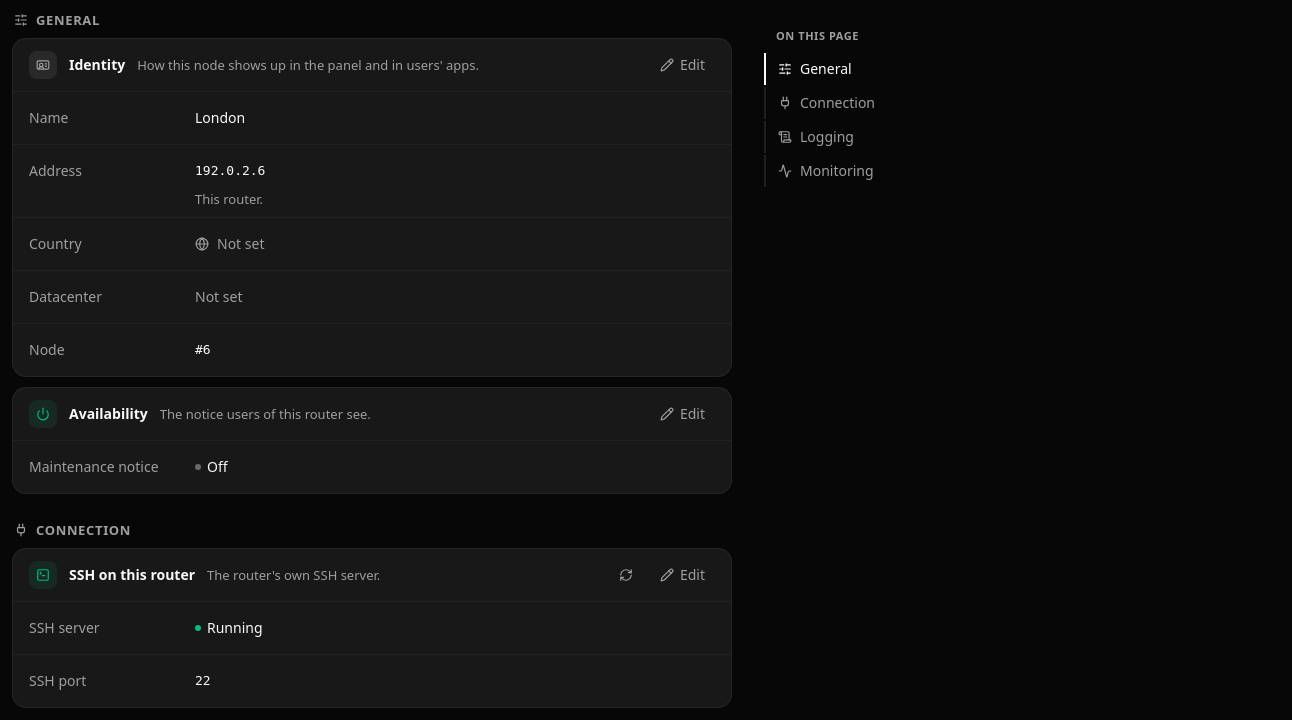
node settings page › saves only the group that changed
This screenshot has width=1292, height=720.
Click the button with aria-label "Edit Identity".
click(682, 65)  # box left=650, top=49, right=715, bottom=81
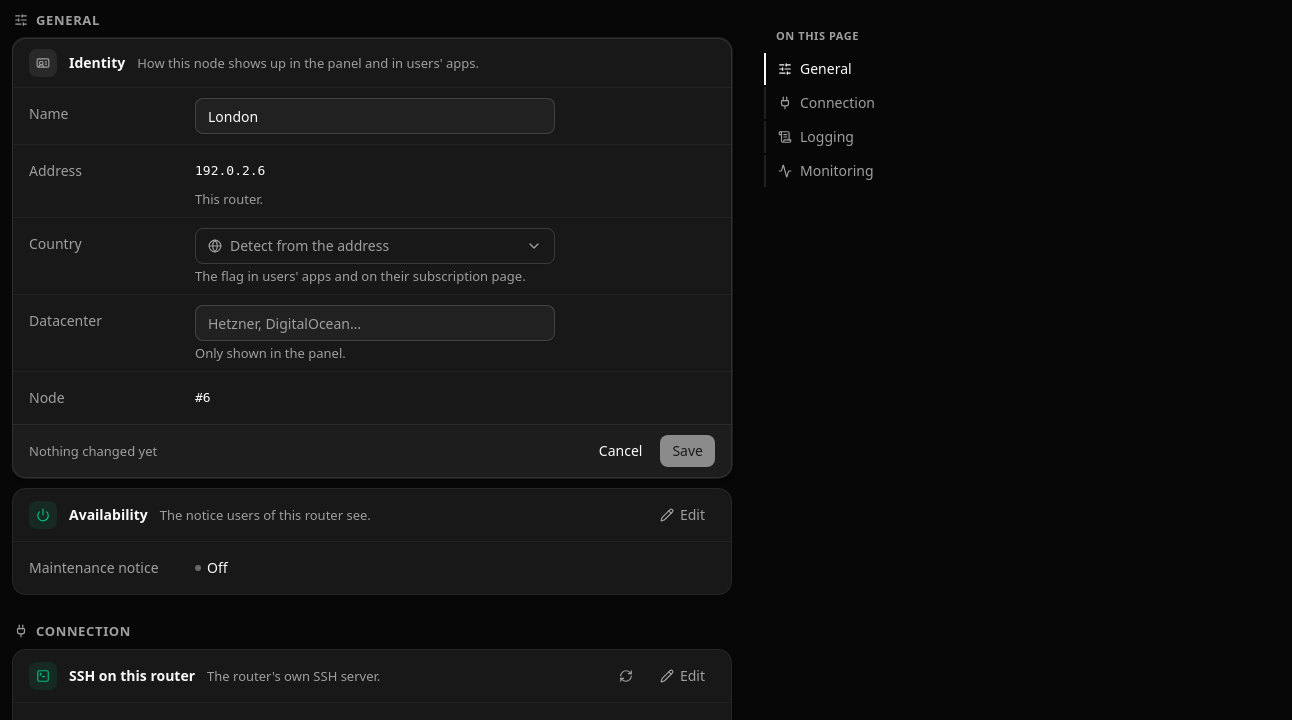
Replace the text in the field labelled "Name" with "New name" at (375, 116), box left=195, top=98, right=555, bottom=134
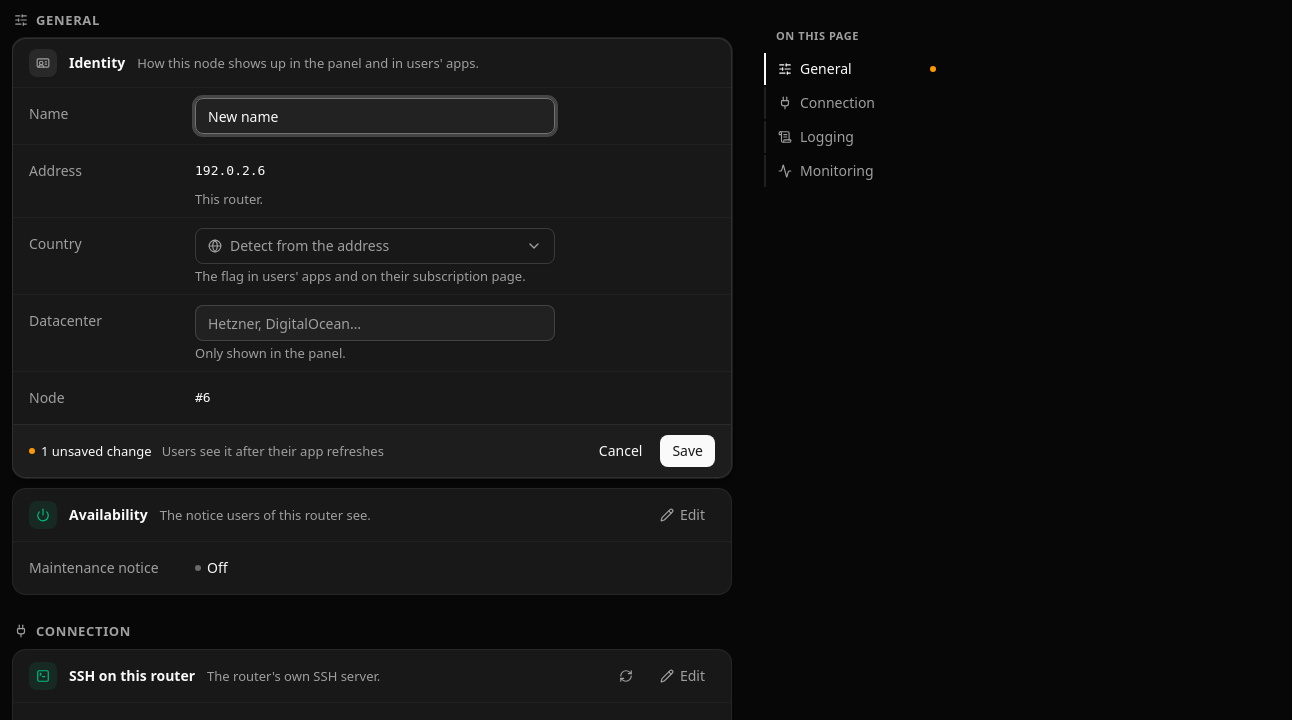
Check: the footer named "Unsaved changes" shows "1 unsaved change", box left=13, top=424, right=731, bottom=477
Check: the footer named "Unsaved changes" shows "Users see it after their app refreshes", box left=162, top=442, right=384, bottom=460
Click the button "Save".
click(688, 451)  # box left=660, top=435, right=715, bottom=467
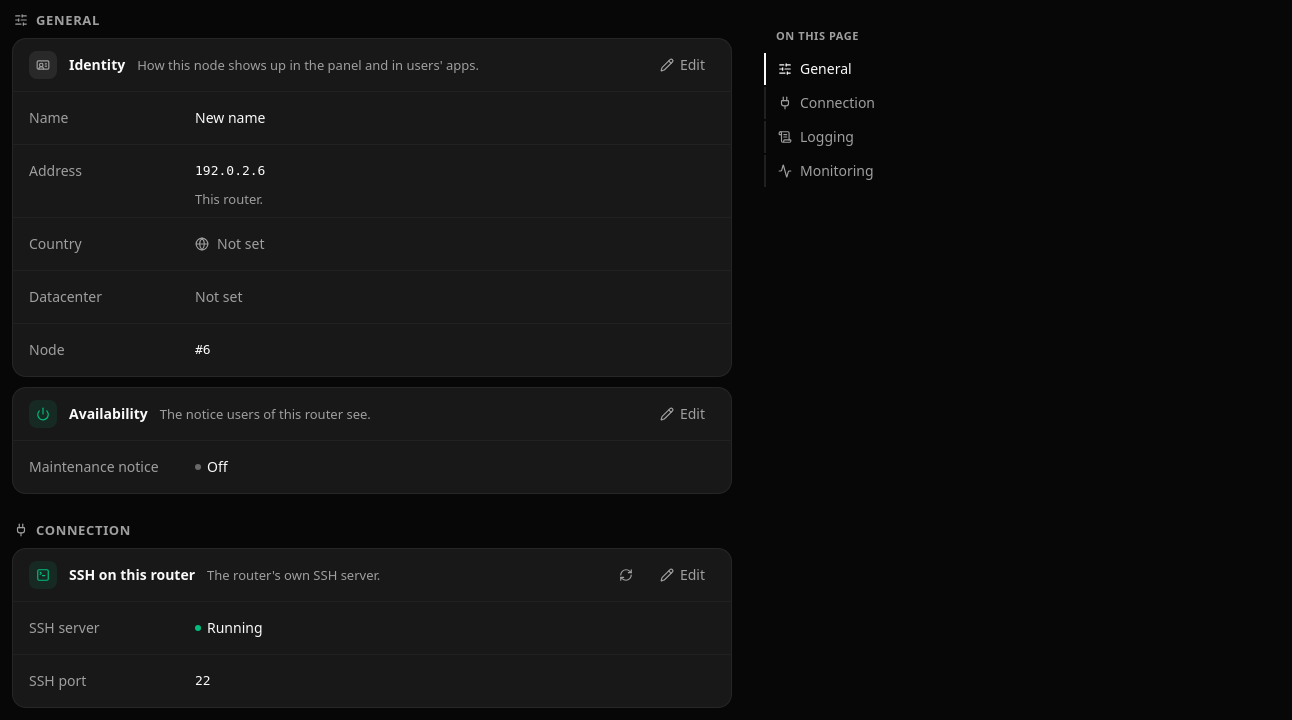
Check: the field is gone
